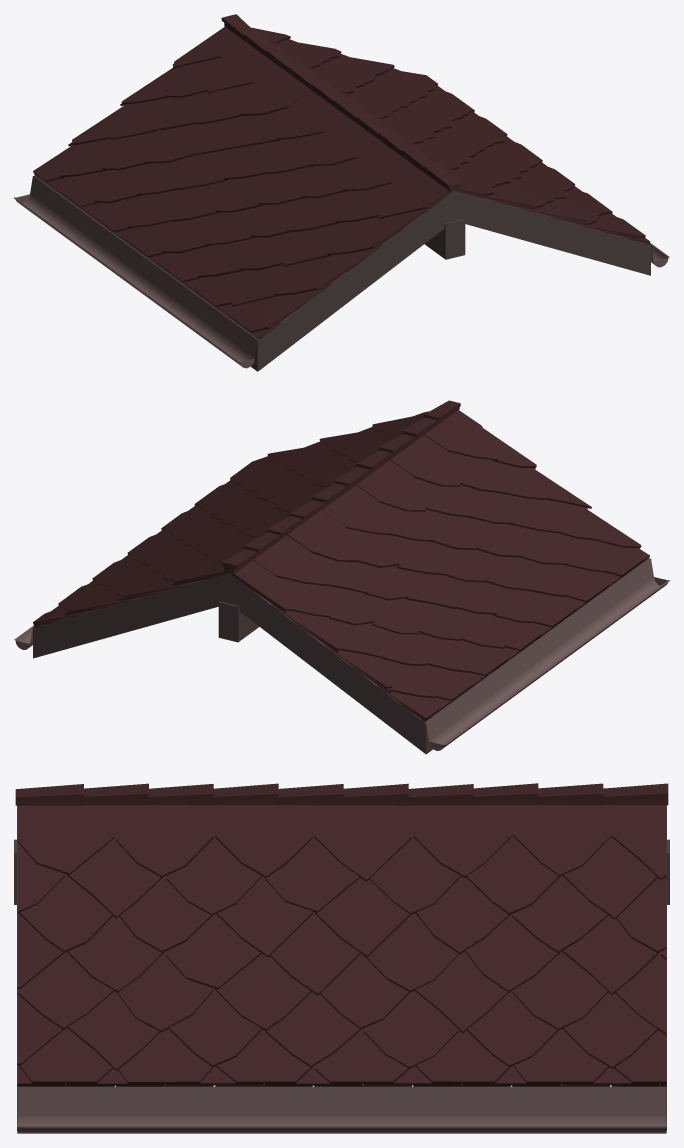
Rendered from PurpleTileRoof.glb.
3 views of the same model, one above another, from view 1: azimuth 30°, elevation 25°; view 2: azimuth 150°, elevation 25°; view 3: azimuth 270°, elevation 25° (orthographic). The views are drawn at different scales.
Parts seen in each view (by area): view 1: diamondTileRoof; view 2: diamondTileRoof; view 3: diamondTileRoof.
Boxes of the visible parts, x1,y1,x2,y2 form: diamondTileRoof: [14, 14, 669, 371]; diamondTileRoof: [14, 400, 669, 754]; diamondTileRoof: [14, 783, 669, 1133].
Size of what is drawn, in the model's own units: 4.43 by 1.4 by 4.04.
1 material, 1 textured.
